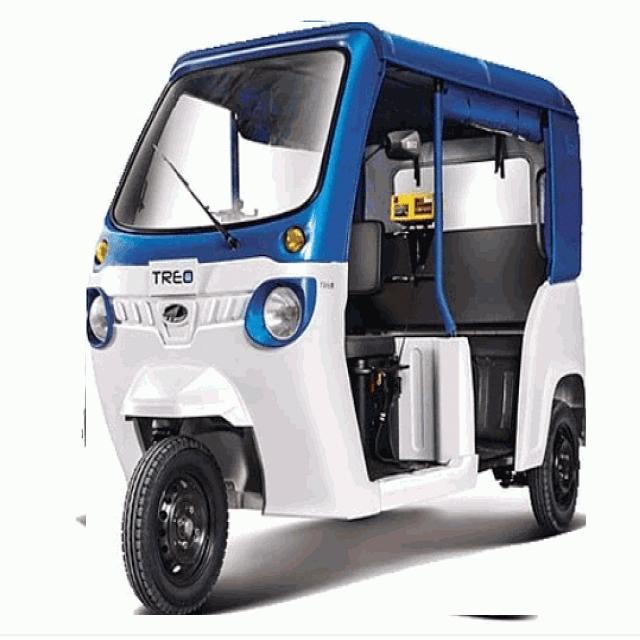autorickshaw: (86, 22, 585, 615)
